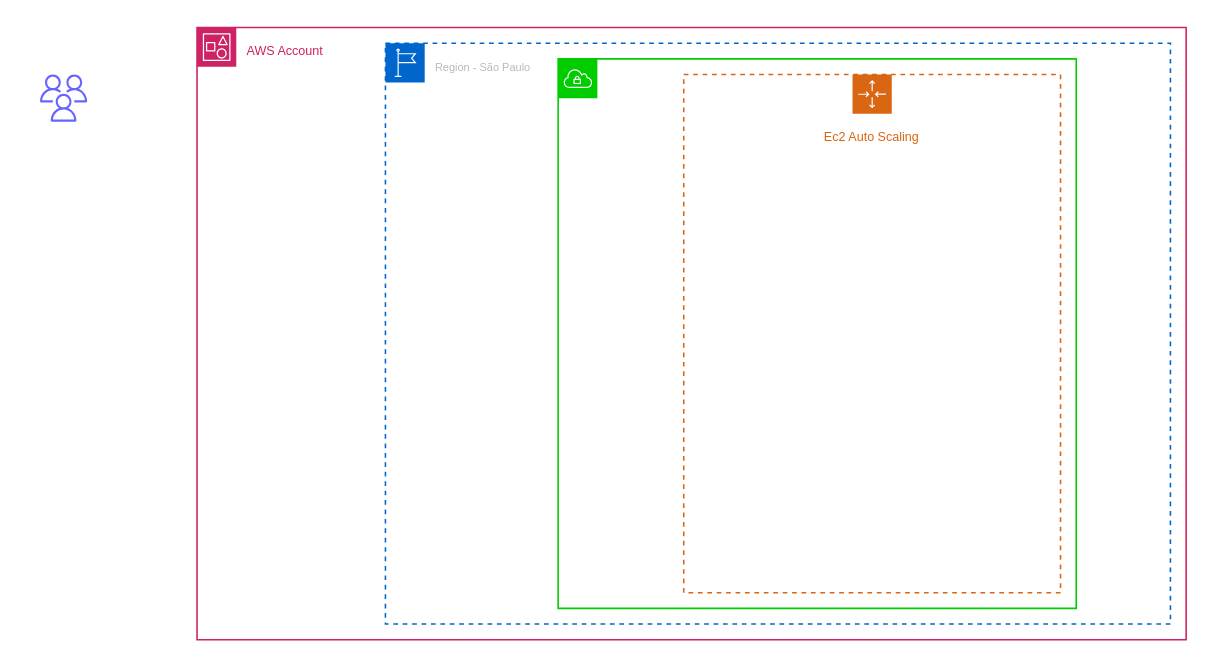
The diagram is 1214 pixels wide and 667 high, and some of its shapes have lost their labels. Here are the shapes that lost their labels. From the top down, the box of each, then its label:
(38, 73, 87, 122): Usuário de Internet
(557, 57, 1076, 608): VPC
